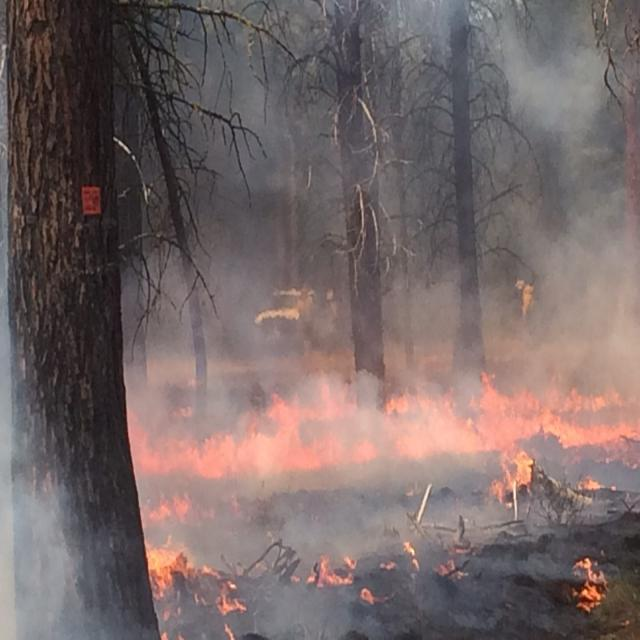Fire: (118, 367, 640, 492), (134, 540, 258, 621), (486, 432, 542, 502), (137, 488, 219, 528), (566, 544, 610, 614), (574, 472, 620, 501)
Smoke: (114, 340, 640, 637), (350, 0, 640, 379), (160, 0, 396, 459), (0, 271, 144, 640)
